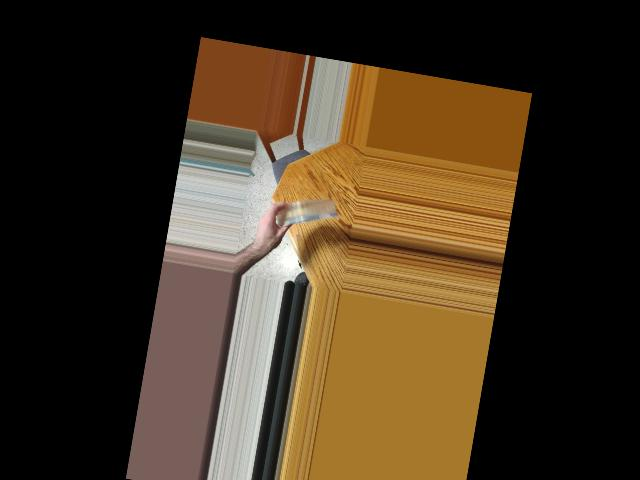cheese: (269, 193, 341, 229)
